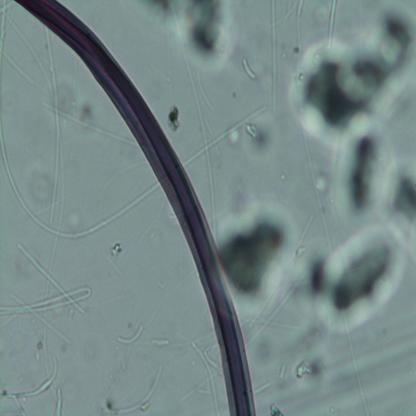Background material: (290, 17, 416, 146), (307, 226, 402, 330), (223, 204, 294, 293), (335, 114, 390, 223), (181, 0, 235, 70), (382, 158, 416, 247), (56, 86, 98, 124), (245, 121, 278, 160), (295, 351, 325, 385), (27, 168, 54, 205), (311, 168, 330, 206), (166, 103, 184, 132), (108, 240, 124, 262), (266, 399, 285, 415), (101, 396, 115, 416)
Glass filter fibre: (0, 116, 164, 242), (183, 104, 268, 166), (171, 10, 208, 148), (18, 242, 86, 317), (44, 25, 64, 224), (0, 283, 93, 320), (0, 356, 59, 401), (113, 363, 163, 415), (0, 44, 50, 93), (189, 340, 220, 415), (343, 323, 367, 410), (289, 209, 316, 260), (269, 0, 278, 114), (194, 67, 214, 114), (326, 0, 340, 50), (116, 323, 144, 345), (202, 344, 219, 369), (242, 58, 257, 81), (252, 380, 271, 398), (151, 336, 170, 348), (278, 364, 287, 378)
Microfibre: (14, 0, 258, 414)
